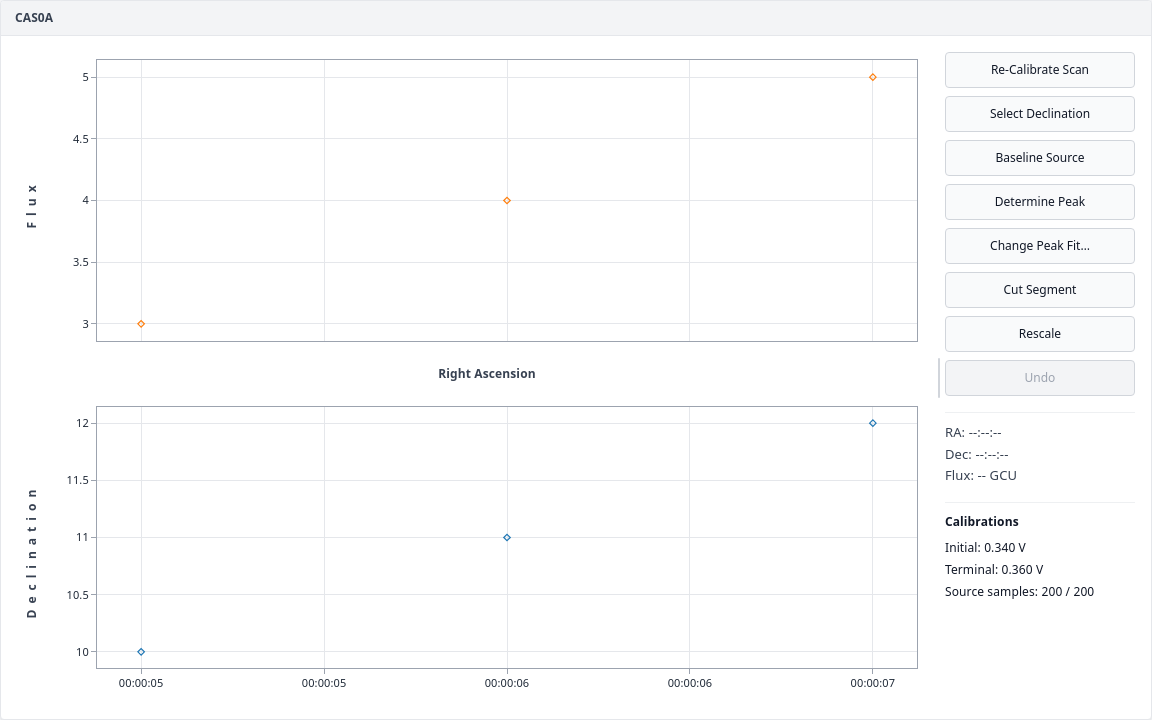
Test: Switching tools deselects the previous one (FEAT-002)
Click the button "Cut Segment" at (1040,290), box [945,272,1135,308]
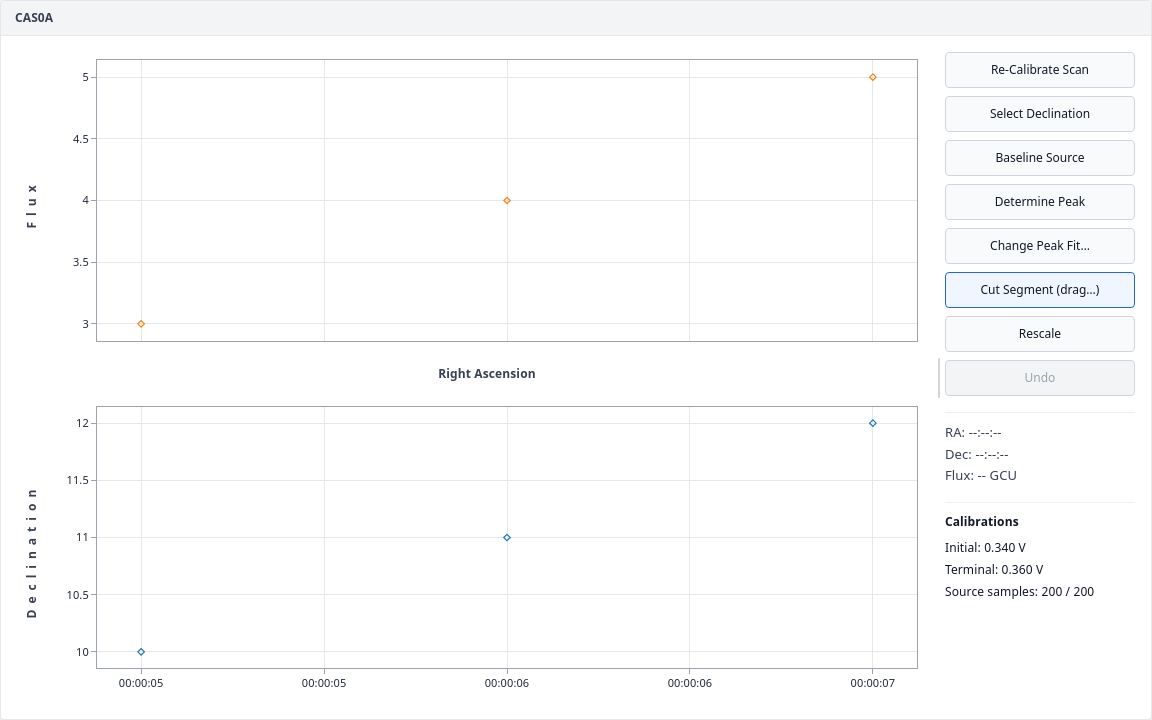
Expected: the button "Cut Segment (drag…)" is shown, [945,272,1135,308]
Click the button "Select Declination" at (1040,114), box [945,96,1135,132]
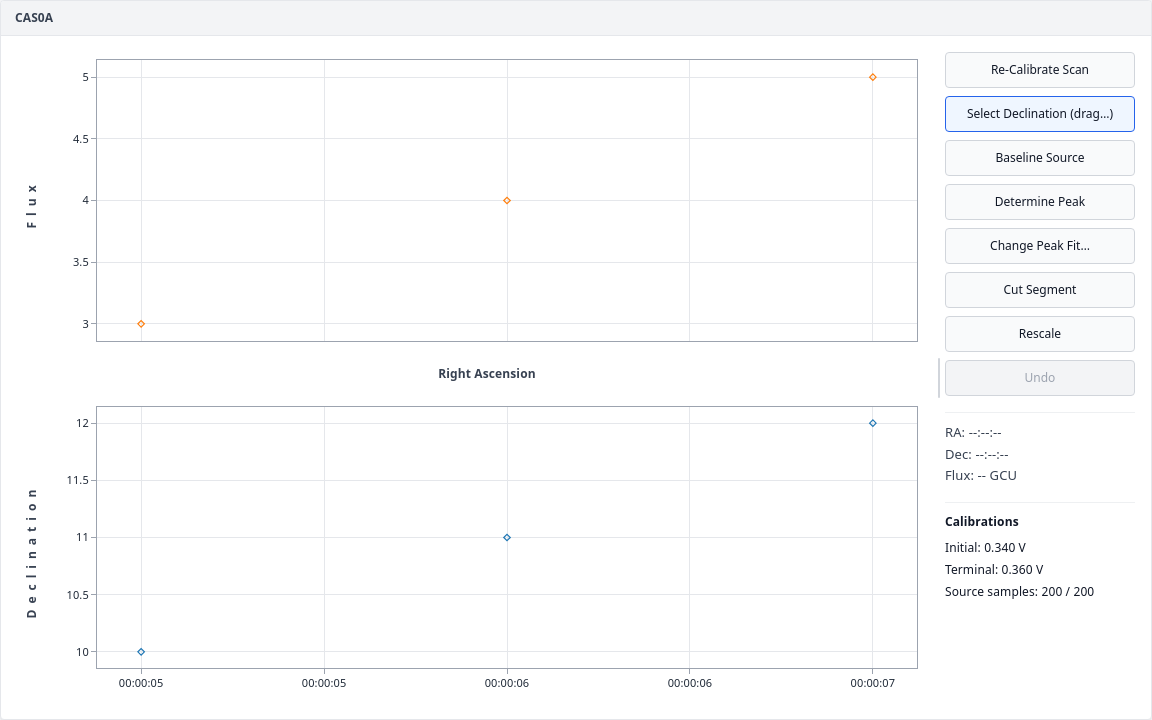
Expected: the button "Cut Segment" is shown, [945,272,1135,308]
Expected: the button "Select Declination (drag…)" is shown, [945,96,1135,132]
